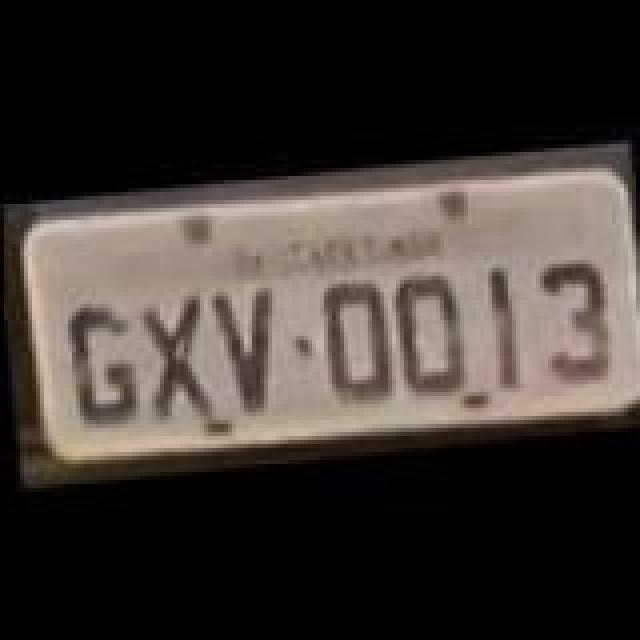1: (476, 256, 524, 396)
3: (532, 256, 620, 388)
G: (58, 302, 142, 430)
O: (386, 270, 470, 402), (314, 276, 398, 404)
V: (214, 282, 290, 418)
X: (132, 290, 212, 426)
